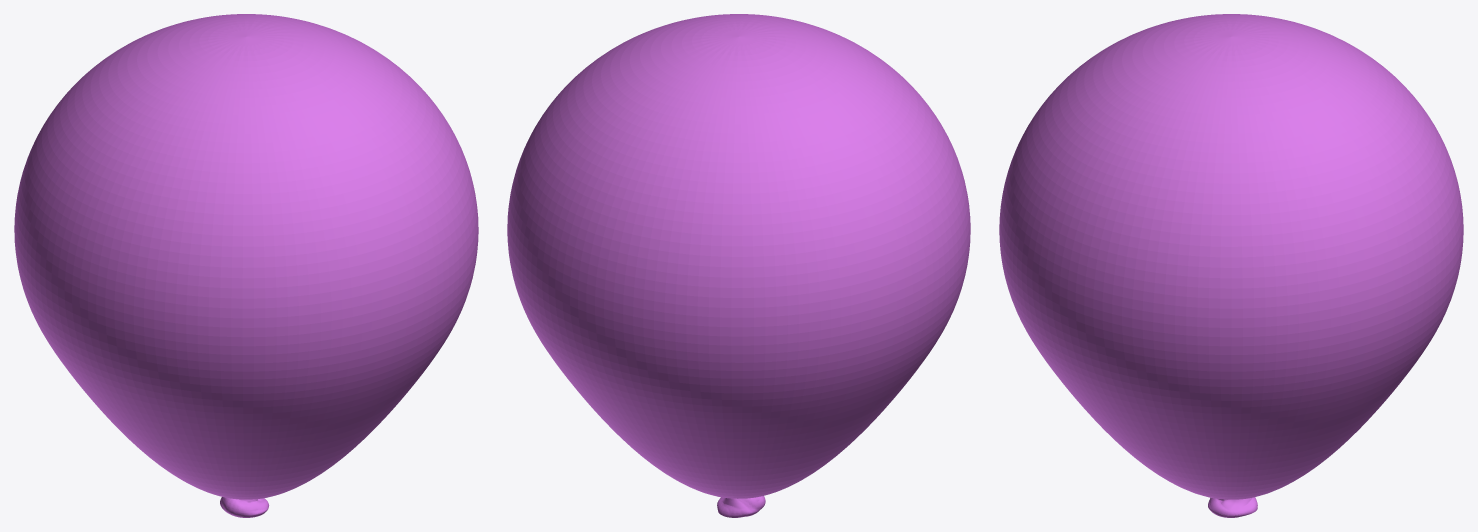
File: Baloon Pop.fbx
3 renders of one model, left to right at view 1: azimuth 30°, elevation 25°; view 2: azimuth 150°, elevation 25°; view 3: azimuth 270°, elevation 25°, orthographic.
Parts seen in each view (by area): view 1: Baloon; view 2: Baloon; view 3: Baloon.
Boxes of the visible parts, x1=… form: Baloon: x1=14, y1=14, x2=478, y2=517; Baloon: x1=507, y1=14, x2=970, y2=517; Baloon: x1=999, y1=14, x2=1463, y2=517.
Bounding box in the file's own units: 0.3556 × 0.4 × 0.3556.
